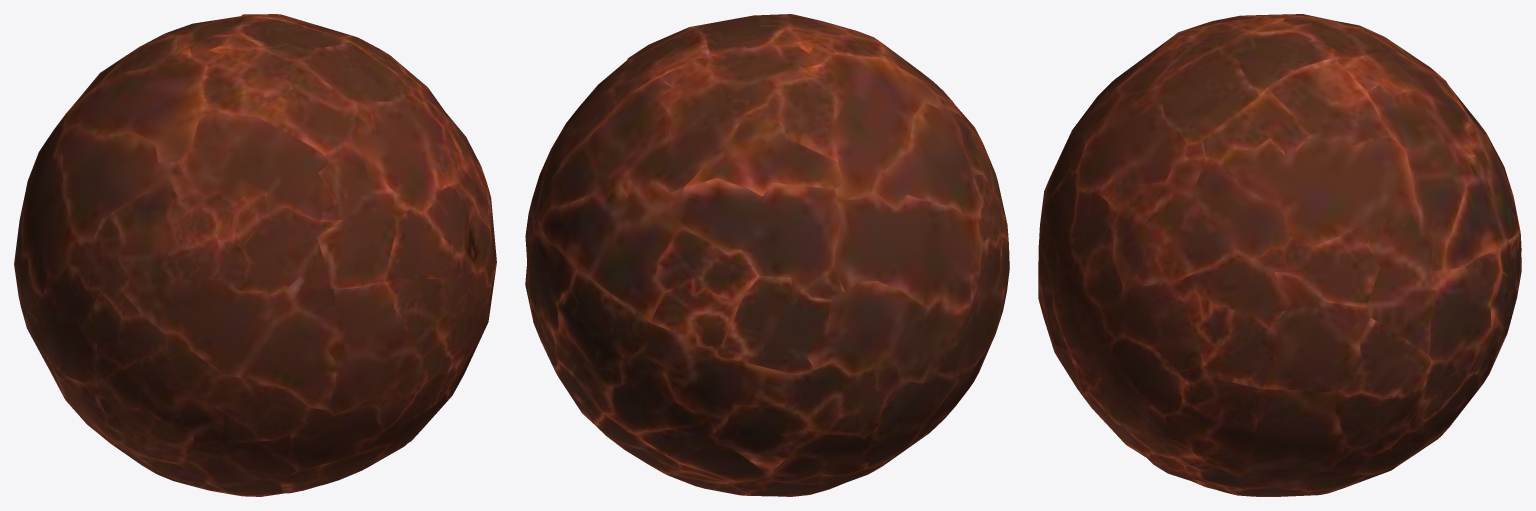
Rendered from test_planet_modal_lod.glb.
3 views of the same model, side by side, from view 1: azimuth 30°, elevation 25°; view 2: azimuth 150°, elevation 25°; view 3: azimuth 270°, elevation 25° (orthographic).
Bounding box in the file's own units: 1.9 × 1.9 × 1.89.
1 material, 1 textured.
